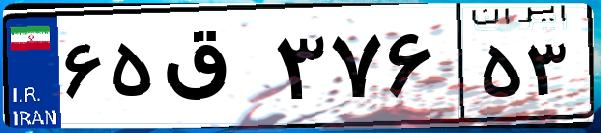3: (270, 28, 330, 110), (525, 38, 570, 115)
5: (475, 38, 525, 113), (110, 28, 158, 98)
6: (385, 28, 445, 110), (57, 26, 110, 100)
7: (330, 28, 385, 110)
ق: (158, 20, 270, 120)
